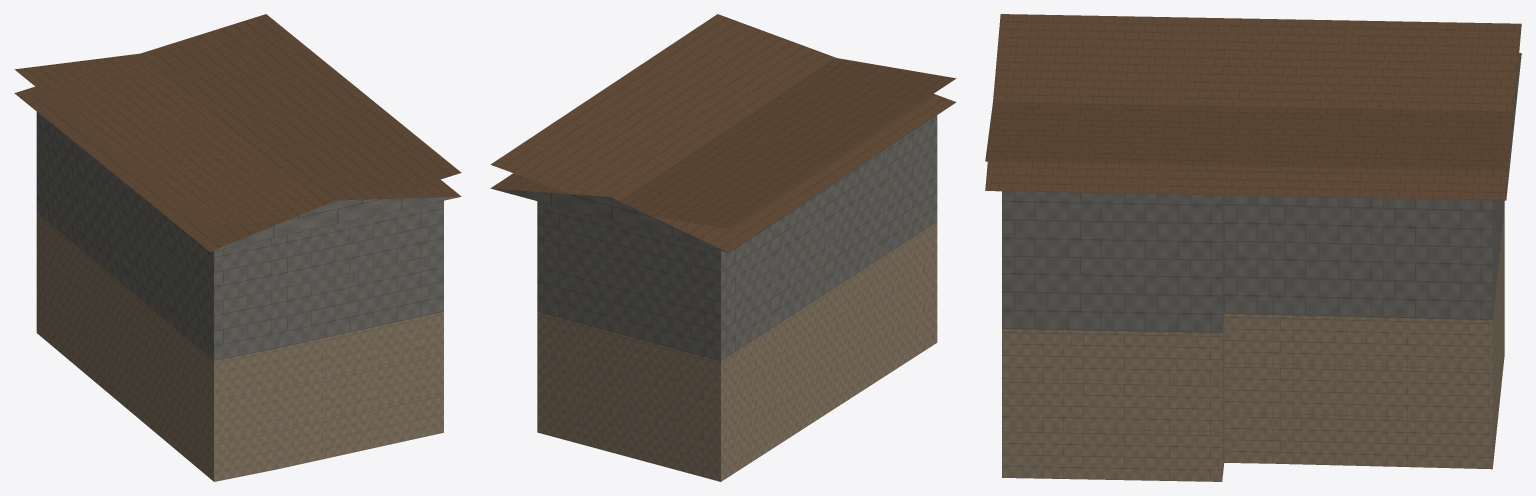
Rendered from bld_c22_47_395.gltf.
The picture shows the model from 3 angles, left to right: view 1: azimuth 30°, elevation 25°; view 2: azimuth 150°, elevation 25°; view 3: azimuth 270°, elevation 25°; orthographic projection. The views are drawn at different scales.
Parts seen in each view (by area): view 1: bld_c22_47_395; view 2: bld_c22_47_395; view 3: bld_c22_47_395.
Part boxes in pixels (x1,y1,x2,y2): bld_c22_47_395: (14, 14, 461, 481); bld_c22_47_395: (490, 14, 956, 481); bld_c22_47_395: (985, 14, 1521, 481).
Size of the model in its own units: 11.5 by 11 by 16.57.
Materials: 4 (4 with a texture image).
